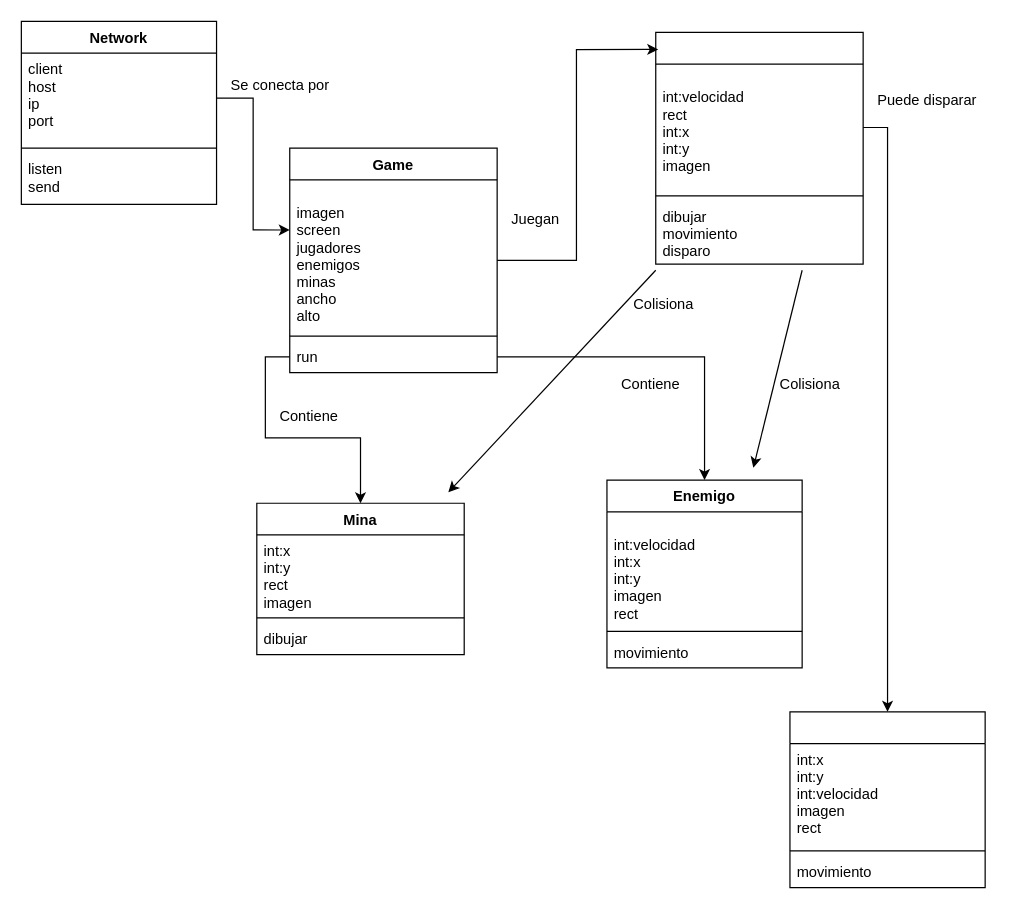
Image size: 1019x913. Some labels were removed from this diagram. Here are the shapes that lost their labels. From the top down, the box of each, then its label:
(655, 31, 863, 264): Jugadores
(789, 711, 985, 888): Disparo
